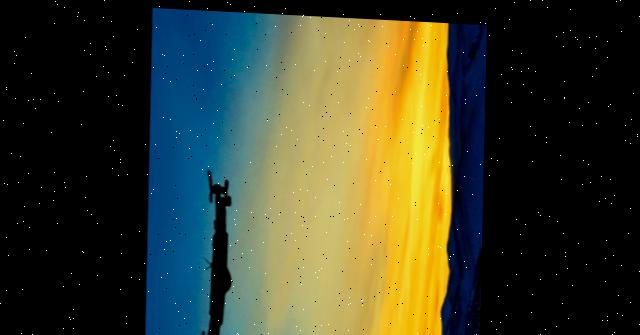drone: (201, 163, 235, 335)
